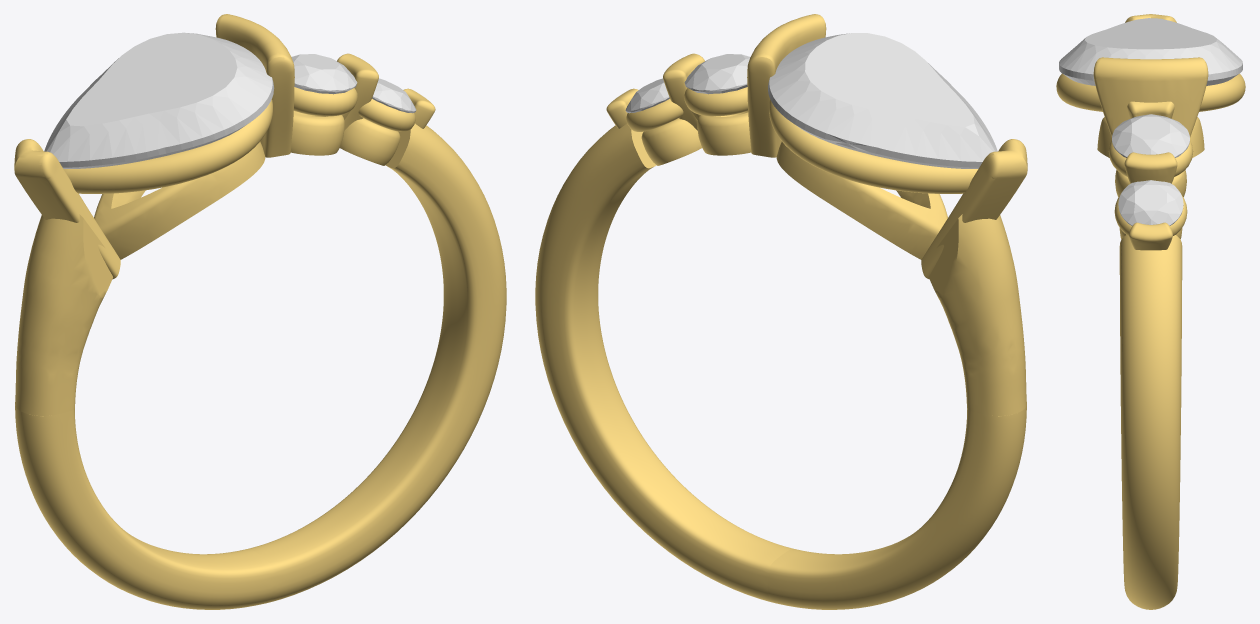
File: NicolasYGhalfmoon_blender.glb
3 renders of one model, left to right at view 1: azimuth 30°, elevation 25°; view 2: azimuth 150°, elevation 25°; view 3: azimuth 270°, elevation 25°, orthographic. The views are drawn at different scales.
Parts seen in each view (by area): view 1: V2 Nicolas YG for 3d model, V2 Nicolas center dia for 3d model, V2 Nicolas side dia for 3d model.001, V2 Nicolas side dia for 3d model; view 2: V2 Nicolas YG for 3d model, V2 Nicolas center dia for 3d model, V2 Nicolas side dia for 3d model.001, V2 Nicolas side dia for 3d model; view 3: V2 Nicolas YG for 3d model, V2 Nicolas center dia for 3d model, V2 Nicolas side dia for 3d model.001, V2 Nicolas side dia for 3d model.
Part boxes in pixels (x1,y1,x2,y2): V2 Nicolas YG for 3d model: (14, 14, 506, 609); V2 Nicolas center dia for 3d model: (44, 32, 274, 168); V2 Nicolas side dia for 3d model.001: (291, 54, 357, 94); V2 Nicolas side dia for 3d model: (372, 78, 416, 113); V2 Nicolas YG for 3d model: (535, 14, 1027, 609); V2 Nicolas center dia for 3d model: (768, 33, 997, 168); V2 Nicolas side dia for 3d model.001: (684, 54, 750, 94); V2 Nicolas side dia for 3d model: (625, 78, 669, 113); V2 Nicolas YG for 3d model: (1056, 14, 1245, 609); V2 Nicolas center dia for 3d model: (1059, 18, 1242, 85); V2 Nicolas side dia for 3d model.001: (1112, 114, 1189, 157); V2 Nicolas side dia for 3d model: (1118, 180, 1183, 225).
Bounding box in the file's own units: 19.9 × 22.29 × 7.26.
